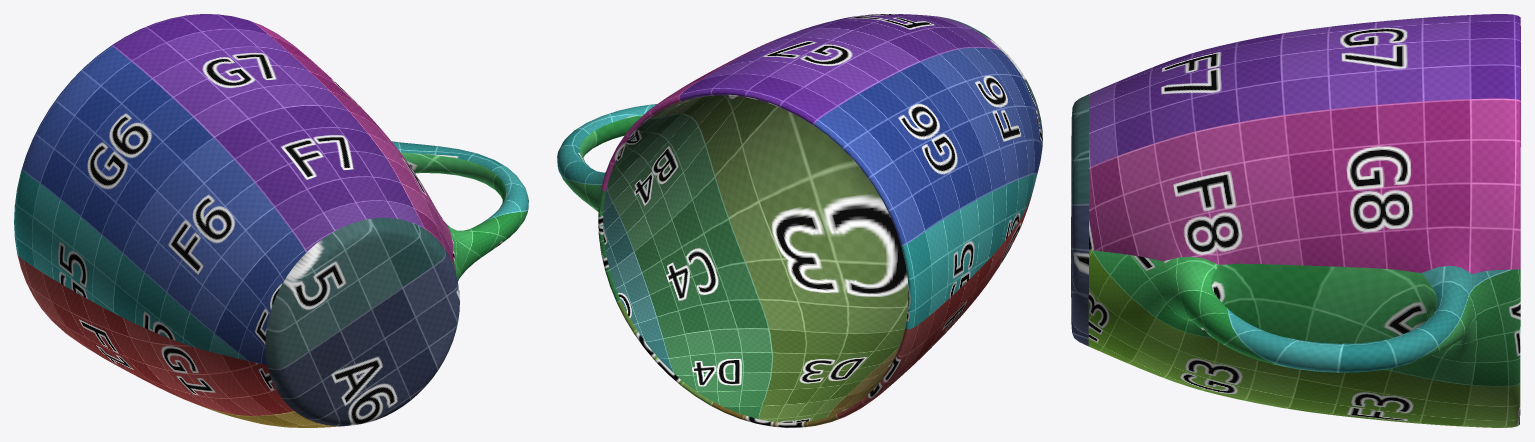
Rendered from cup.obj.
3 renders of one model, left to right at view 1: azimuth 30°, elevation 25°; view 2: azimuth 150°, elevation 25°; view 3: azimuth 270°, elevation 25°, orthographic. The views are drawn at different scales.
Parts seen in each view (by area): view 1: Spongebob_cup.04_Cylinder.004; view 2: Spongebob_cup.04_Cylinder.004; view 3: Spongebob_cup.04_Cylinder.004.
Boxes of the visible parts, <box> form: Spongebob_cup.04_Cylinder.004: <box>14,14,528,427</box>; Spongebob_cup.04_Cylinder.004: <box>557,14,1042,427</box>; Spongebob_cup.04_Cylinder.004: <box>1071,14,1520,427</box>.
Size of the model in its own units: 1.08 by 0.8194 by 0.8894.
Materials: 1 (1 with a texture image).
